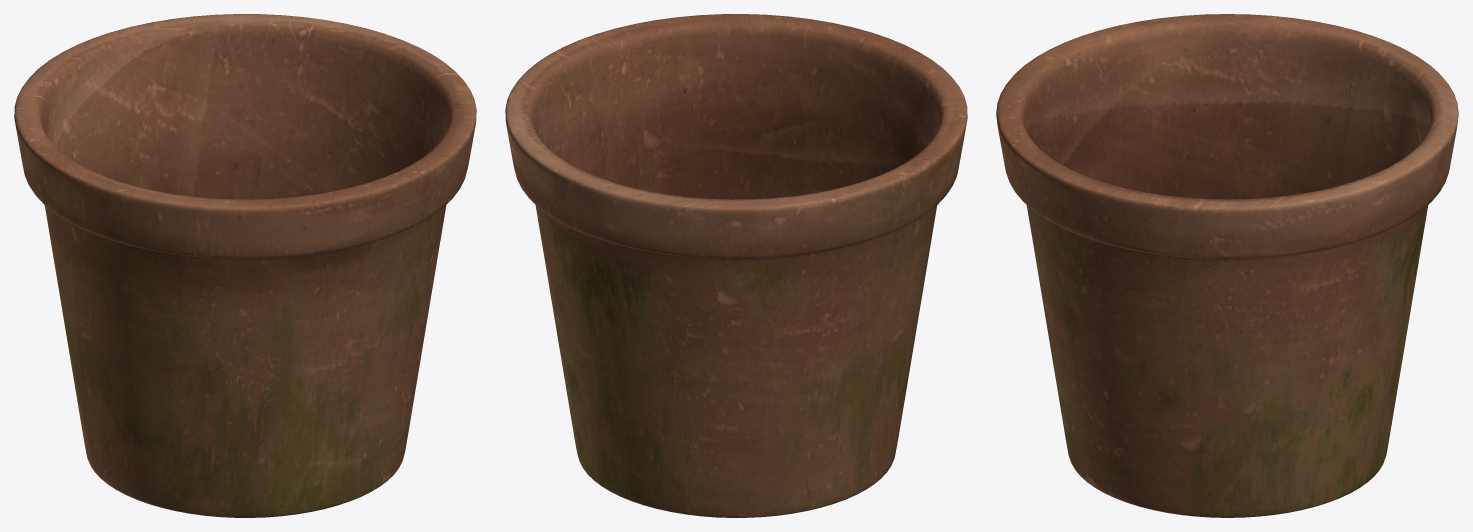
The model's file is pot.glb.
3 renders of one model, left to right at view 1: azimuth 30°, elevation 25°; view 2: azimuth 150°, elevation 25°; view 3: azimuth 270°, elevation 25°, orthographic.
Visible parts, largest first — view 1: Cylinder; view 2: Cylinder; view 3: Cylinder.
Part boxes in pixels (x1=…): Cylinder: x1=14, y1=14, x2=476, y2=517; Cylinder: x1=505, y1=14, x2=967, y2=517; Cylinder: x1=996, y1=14, x2=1458, y2=517.
Bounding box in the file's own units: 235 × 191 × 235.
Materials: 1 (1 with a texture image).
